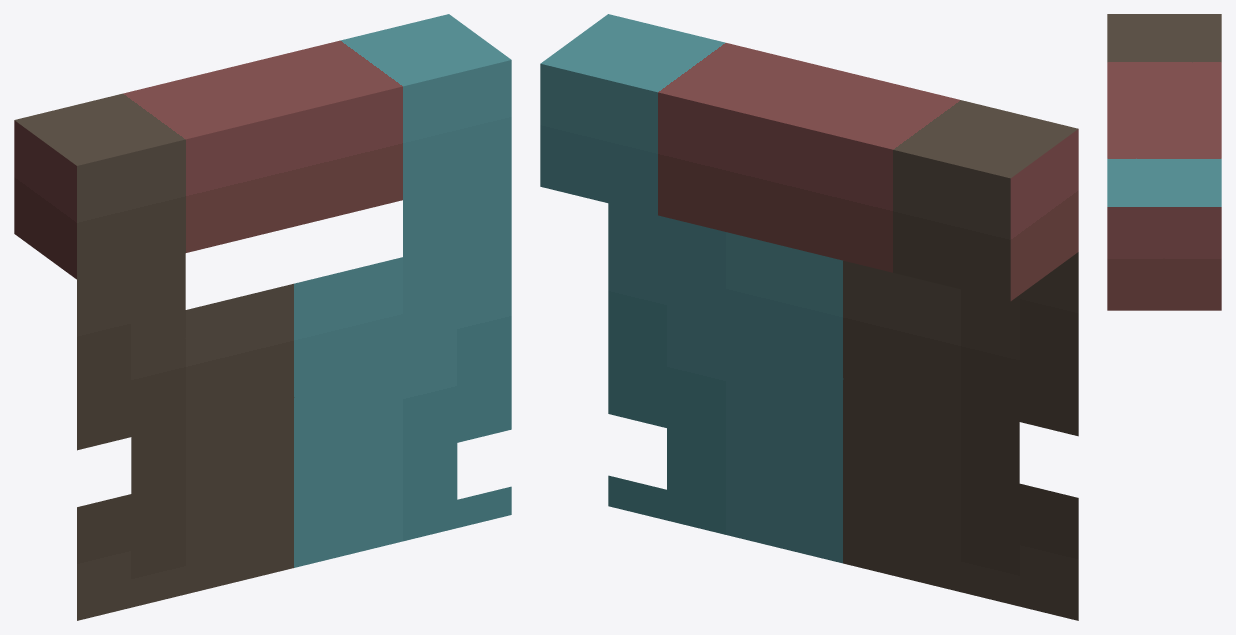
File: _Draugr Banner Hanging.glb
3 views of the same model, side by side, from view 1: azimuth 30°, elevation 25°; view 2: azimuth 150°, elevation 25°; view 3: azimuth 270°, elevation 25° (orthographic). The views are drawn at different scales.
Parts seen in each view (by area): view 1: cube; view 2: cube; view 3: cube.
Part boxes in pixels (x1=…): cube: x1=14, y1=14, x2=511, y2=620; cube: x1=540, y1=14, x2=1078, y2=620; cube: x1=1107, y1=14, x2=1221, y2=310.
Size of the model in its own units: 1 by 1 by 0.25.
1 material, 1 textured.
